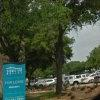Tree: (6, 0, 100, 54)
